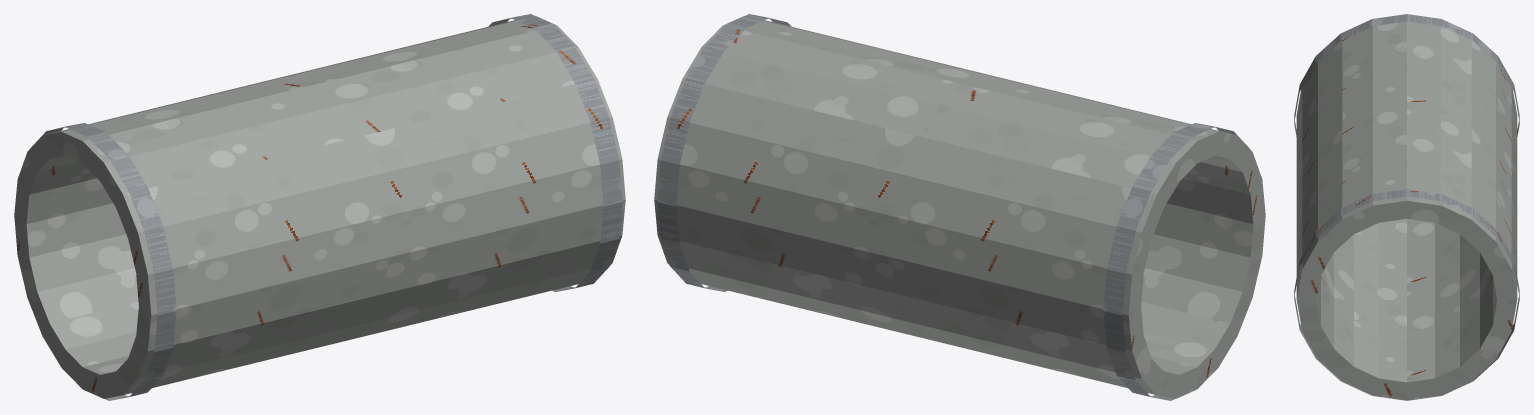
File: concrete_pipe.glb
The picture shows the model from 3 angles, left to right: view 1: azimuth 30°, elevation 25°; view 2: azimuth 150°, elevation 25°; view 3: azimuth 270°, elevation 25°; orthographic projection. The views are drawn at different scales.
Visible parts, largest first — view 1: p; view 2: p; view 3: p.
Part boxes in pixels (x1,y1,x2,y2): p: (14, 14, 625, 400); p: (654, 14, 1265, 400); p: (1294, 14, 1519, 400).
Bounding box in the file's own units: 2 × 1.02 × 1.02.
2 materials, 2 textured.
